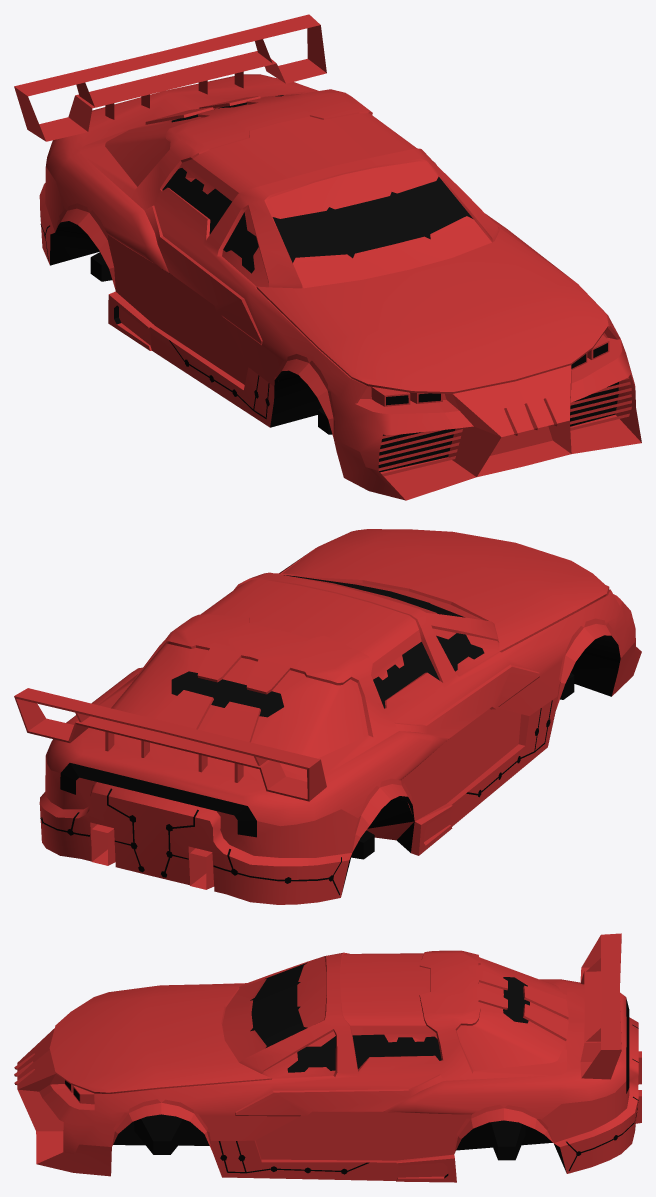
Rendered from supra.FBX.
3 views of the same model, one above another, from view 1: azimuth 30°, elevation 25°; view 2: azimuth 150°, elevation 25°; view 3: azimuth 270°, elevation 25° (orthographic). The views are drawn at different scales.
Visible parts, largest first — view 1: supra_lod0; view 2: supra_lod0; view 3: supra_lod0.
Part boxes in pixels (box(x1,y1,x2,y2)): supra_lod0: box(14, 14, 641, 500); supra_lod0: box(14, 529, 641, 904); supra_lod0: box(14, 933, 641, 1182).
Size of what is drawn, in the model's own units: 211 by 116 by 455.
